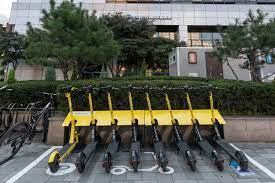kick_handler: (59, 86, 78, 93), (121, 85, 141, 91)
kick_wheel: (48, 152, 60, 173), (76, 153, 86, 173), (103, 153, 112, 173), (186, 153, 196, 171), (158, 152, 167, 171), (131, 152, 138, 173), (238, 158, 249, 171), (217, 159, 224, 171)
